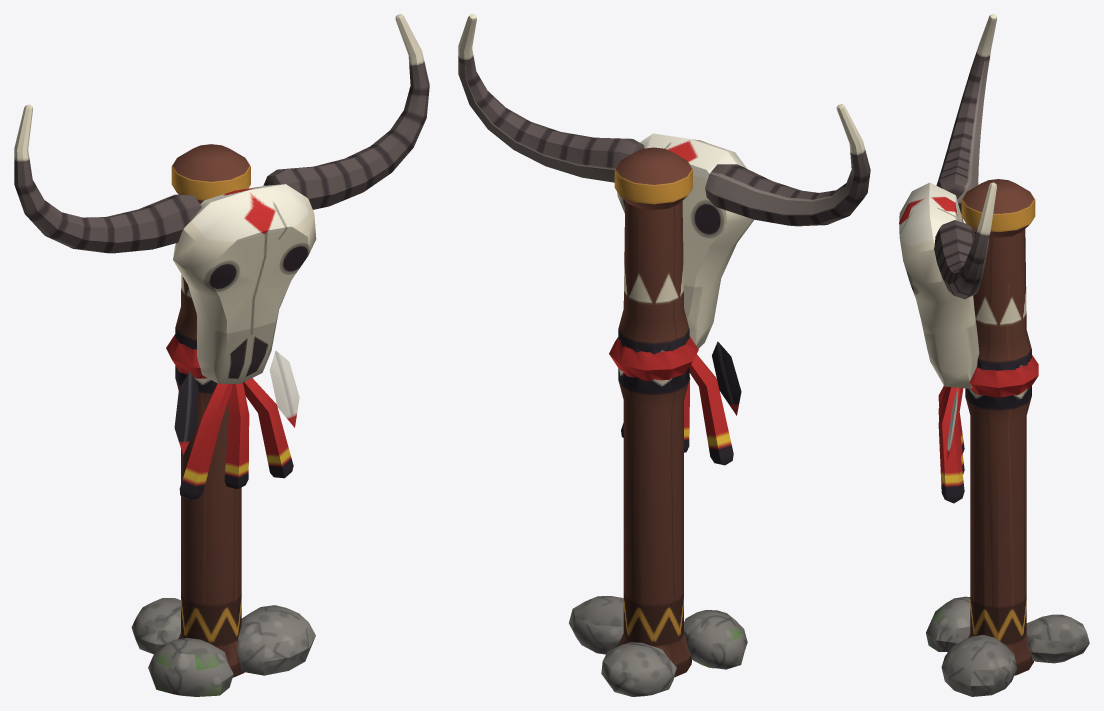
The model's file is skull_post.glb.
3 renders of one model, left to right at view 1: azimuth 30°, elevation 25°; view 2: azimuth 150°, elevation 25°; view 3: azimuth 270°, elevation 25°, orthographic. The views are drawn at different scales.
Visible parts, largest first — view 1: skull_post; view 2: skull_post; view 3: skull_post.
Part boxes in pixels (x1,y1,x2,y2): skull_post: (14,14,429,696); skull_post: (458,14,870,696); skull_post: (899,14,1089,696).
Bounding box in the file's own units: 1.89 × 2.66 × 0.8158.
Materials: 1 (1 with a texture image).
